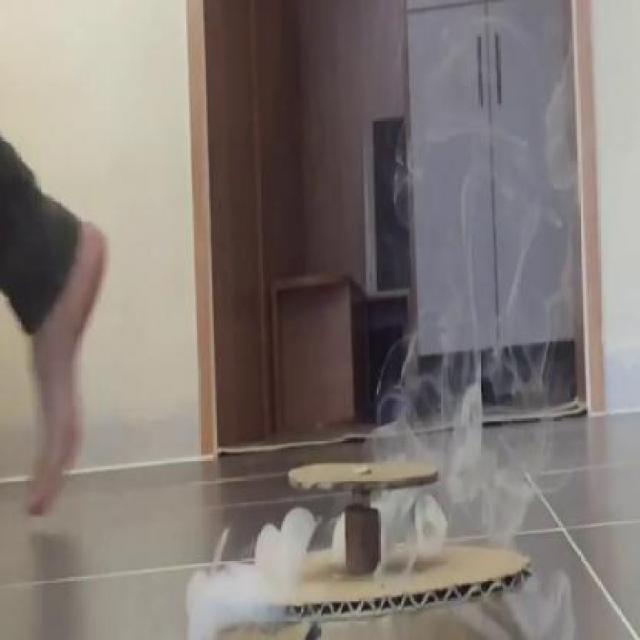smoke: (329, 369, 580, 640), (190, 504, 318, 638)
